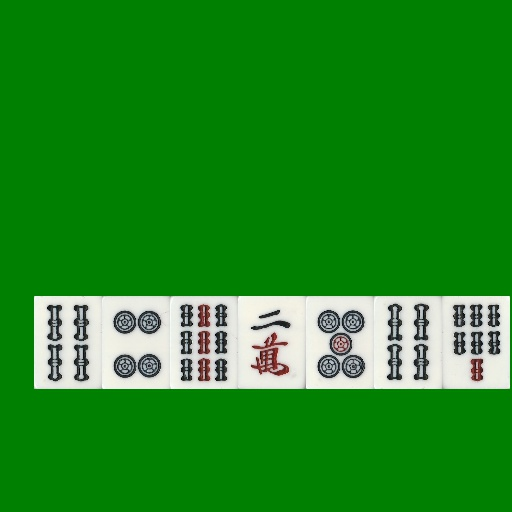2m: (238, 296, 306, 389)
4p: (102, 296, 170, 389)
4s: (34, 296, 102, 389), (374, 296, 442, 389)
5p: (306, 296, 374, 389)
7s: (442, 296, 510, 389)
9s: (170, 296, 238, 389)
